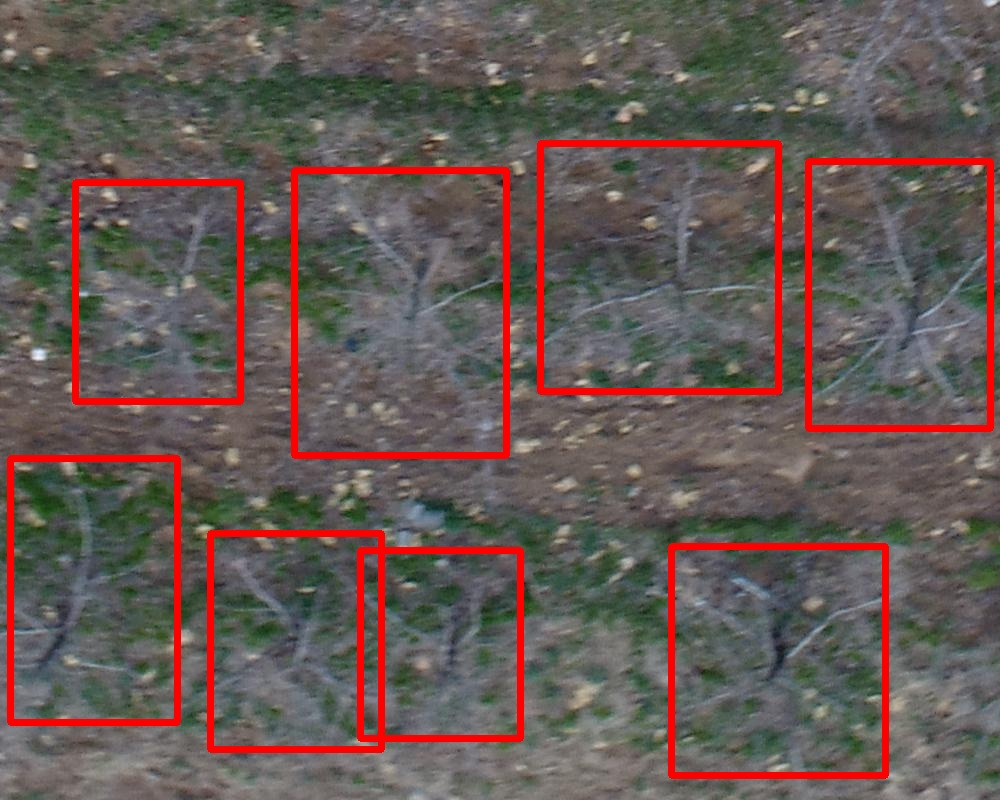apple: (294, 170, 506, 455), (540, 143, 778, 391), (671, 546, 885, 775), (808, 161, 990, 428), (10, 458, 177, 722), (210, 533, 381, 749), (75, 182, 240, 401), (360, 550, 520, 738)
